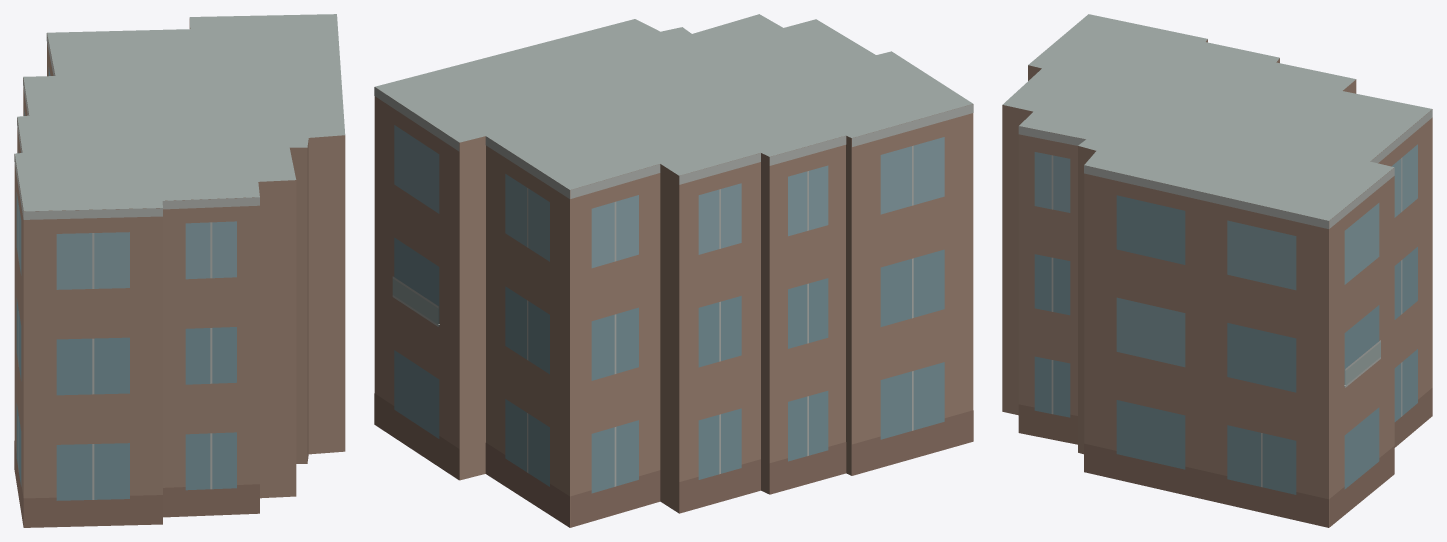
File: survey-upis-32951163.glb
3 views of the same model, side by side, from view 1: azimuth 30°, elevation 25°; view 2: azimuth 150°, elevation 25°; view 3: azimuth 270°, elevation 25° (orthographic). The views are drawn at different scales.
Parts seen in each view (by area): view 1: survey-upis-32951163.tmp; view 2: survey-upis-32951163.tmp; view 3: survey-upis-32951163.tmp.
Boxes of the visible parts, <box> form: survey-upis-32951163.tmp: <box>14,14,345,527</box>; survey-upis-32951163.tmp: <box>374,14,973,527</box>; survey-upis-32951163.tmp: <box>1002,14,1432,527</box>.
Bounding box in the file's own units: 13.02 × 9 × 11.44.
